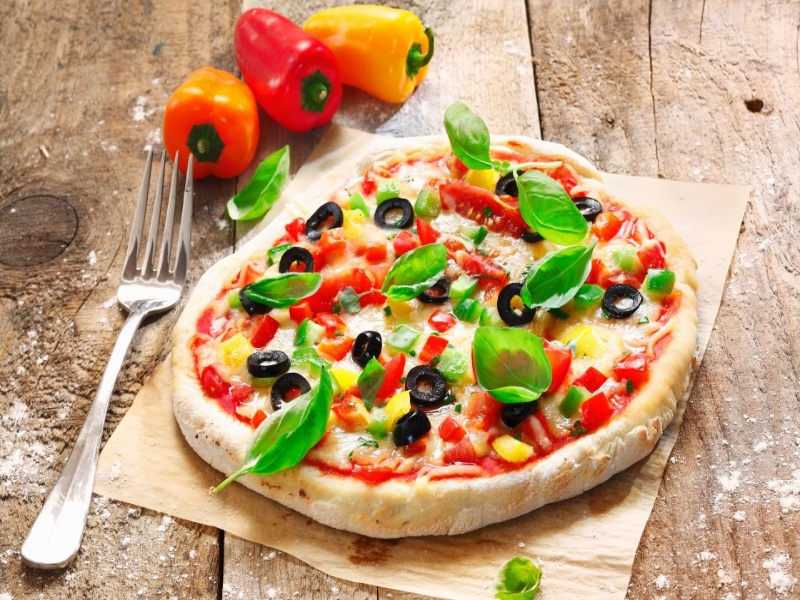olive noir: (395, 410, 446, 456), (404, 365, 451, 407), (497, 280, 537, 328), (600, 284, 650, 322), (302, 198, 344, 242), (369, 194, 415, 231), (345, 329, 391, 366), (264, 375, 312, 408), (242, 349, 299, 376), (278, 244, 326, 274)
